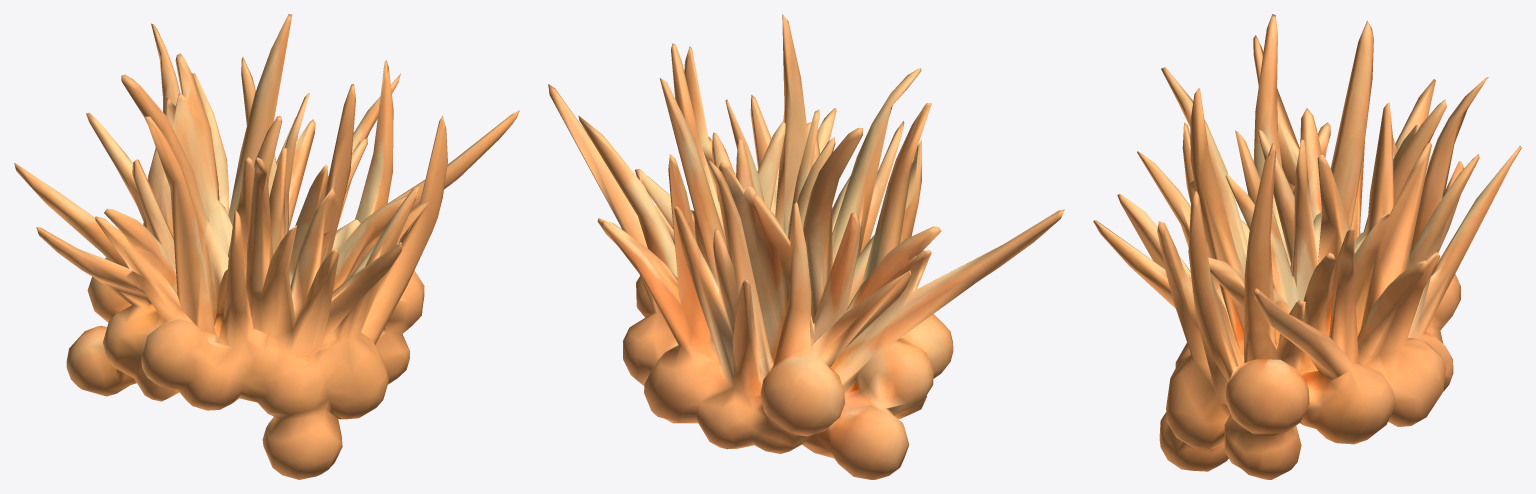
Rendered from clay-grass-tuft.glb.
3 renders of one model, left to right at view 1: azimuth 30°, elevation 25°; view 2: azimuth 150°, elevation 25°; view 3: azimuth 270°, elevation 25°, orthographic. The views are drawn at different scales.
Size of the model in its own units: 1.91 by 1.43 by 1.37.
1 material, 1 textured.
